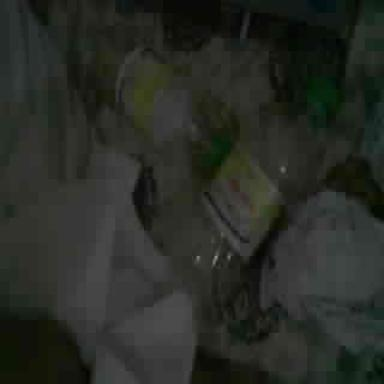bottle: (154, 110, 323, 333), (116, 46, 236, 168)
paper: (260, 189, 383, 382)
